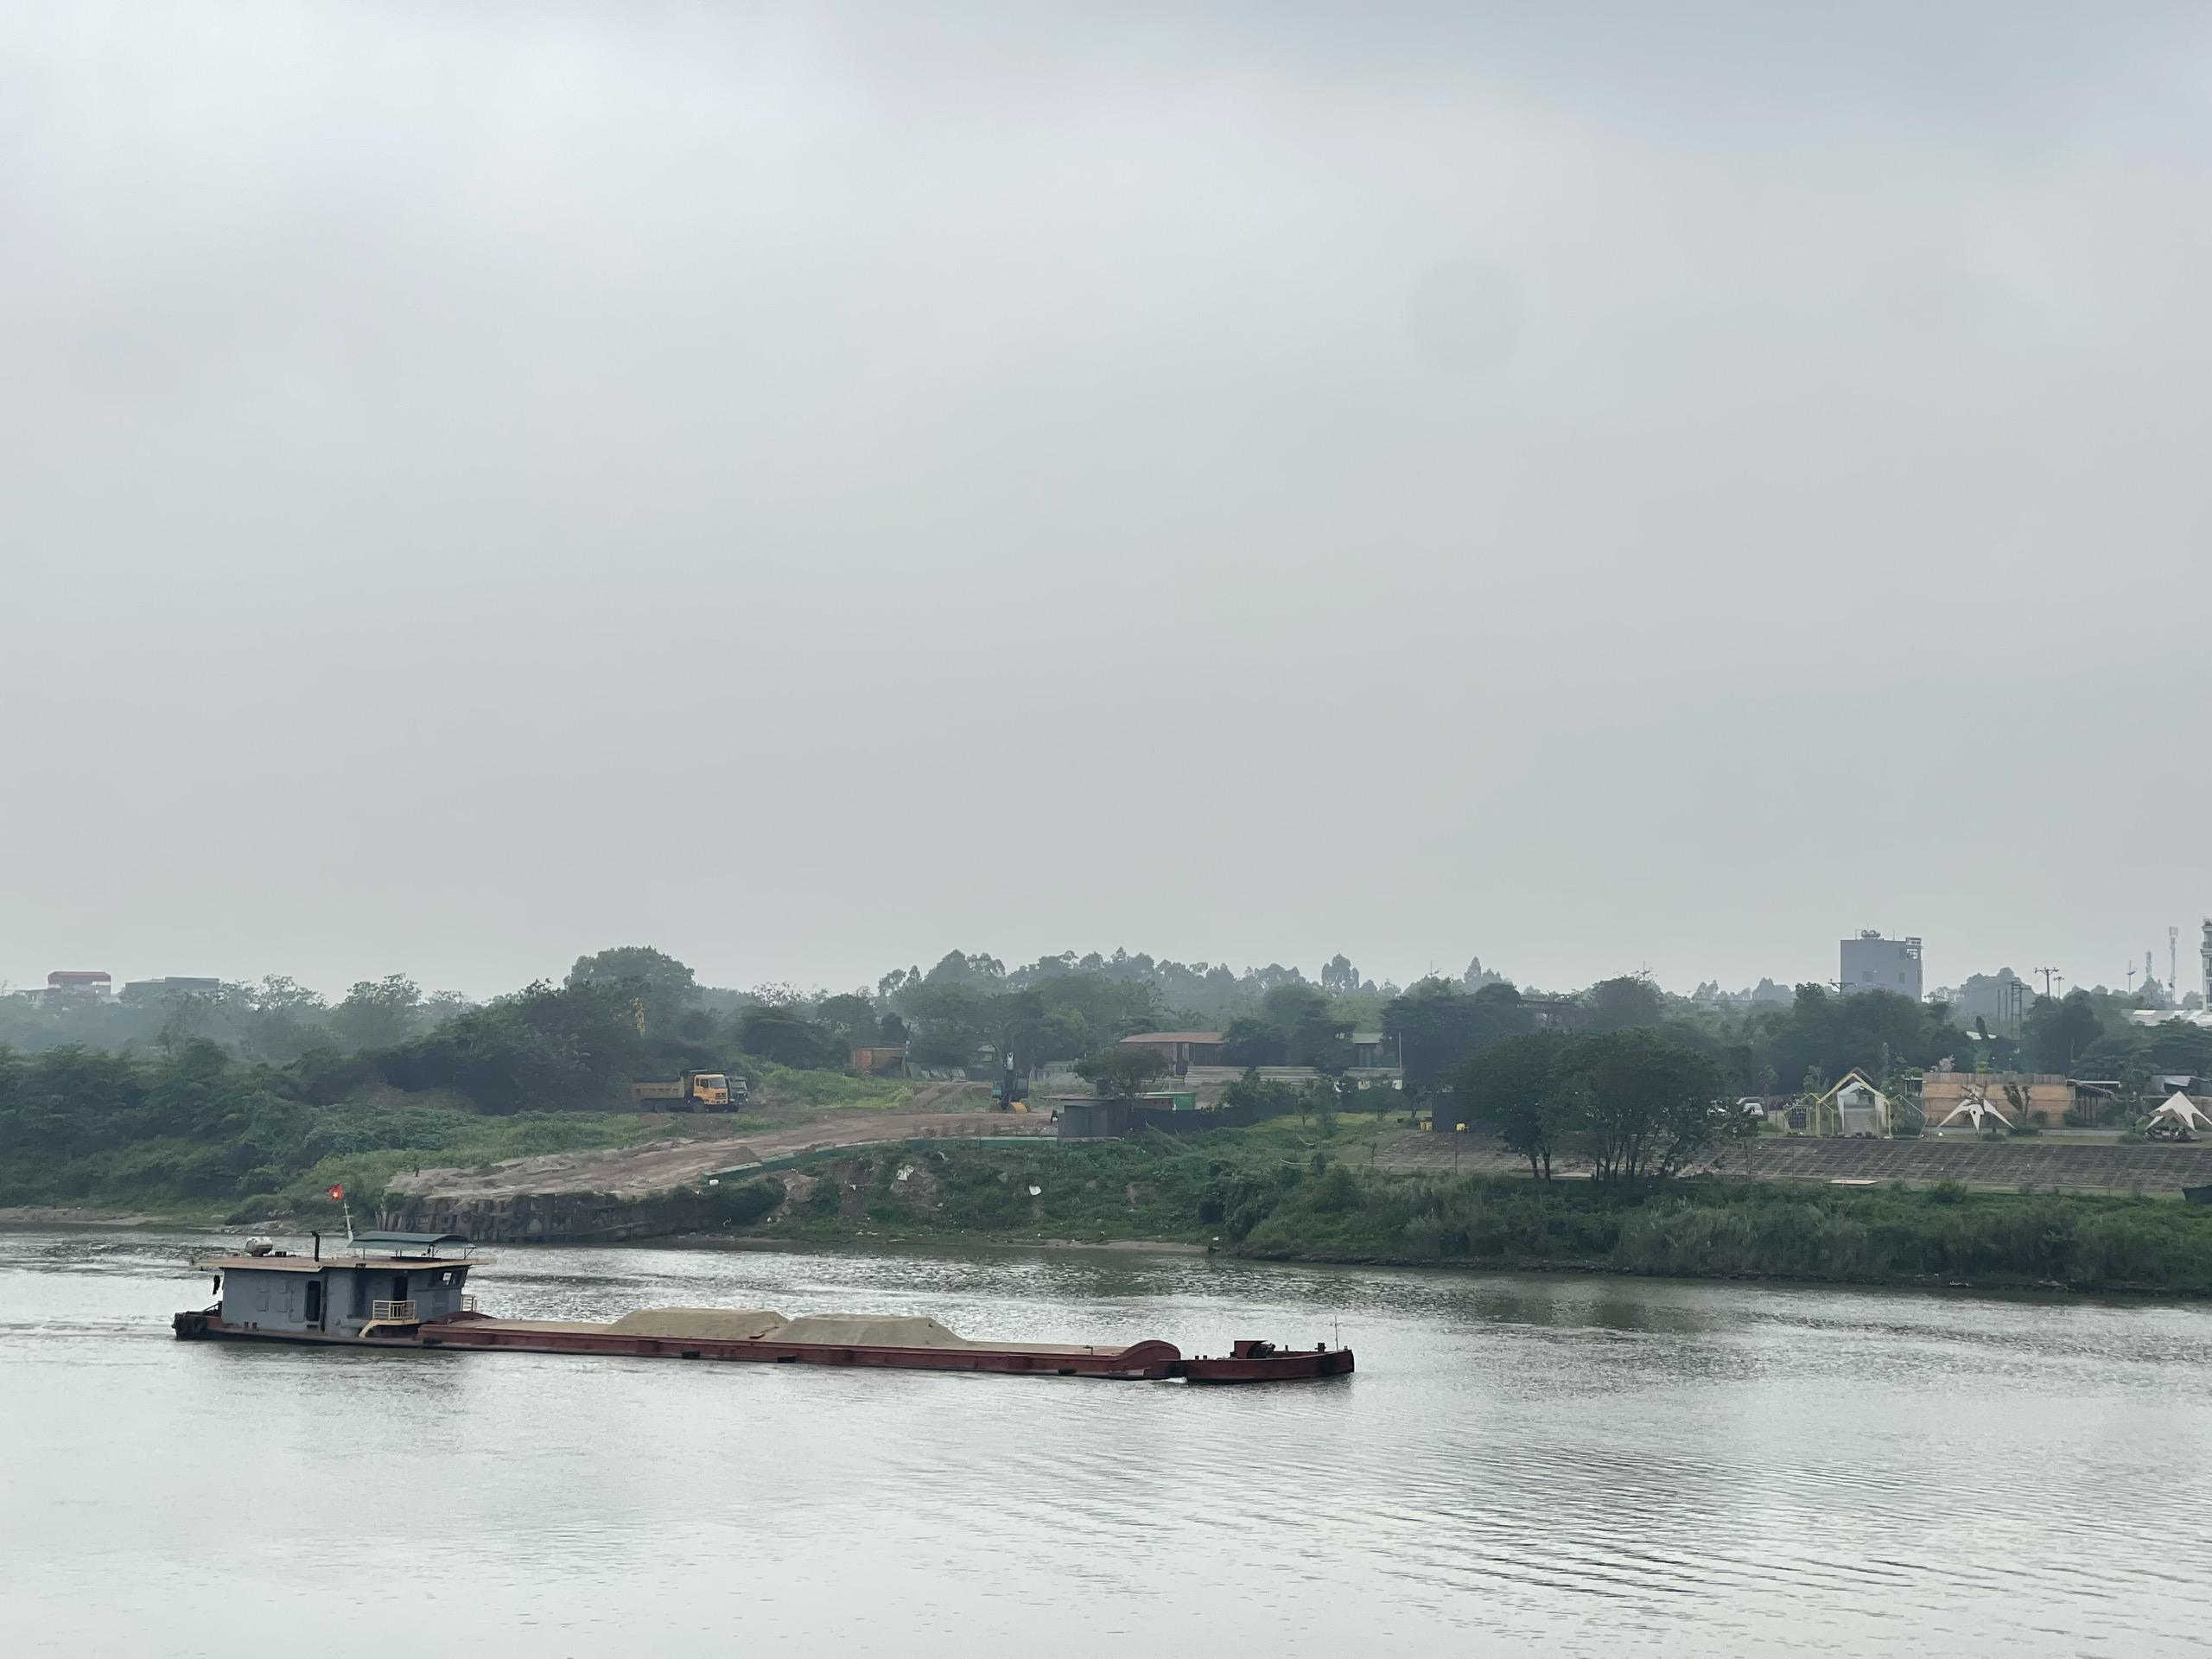Ship: (164, 1241, 1371, 1394)
